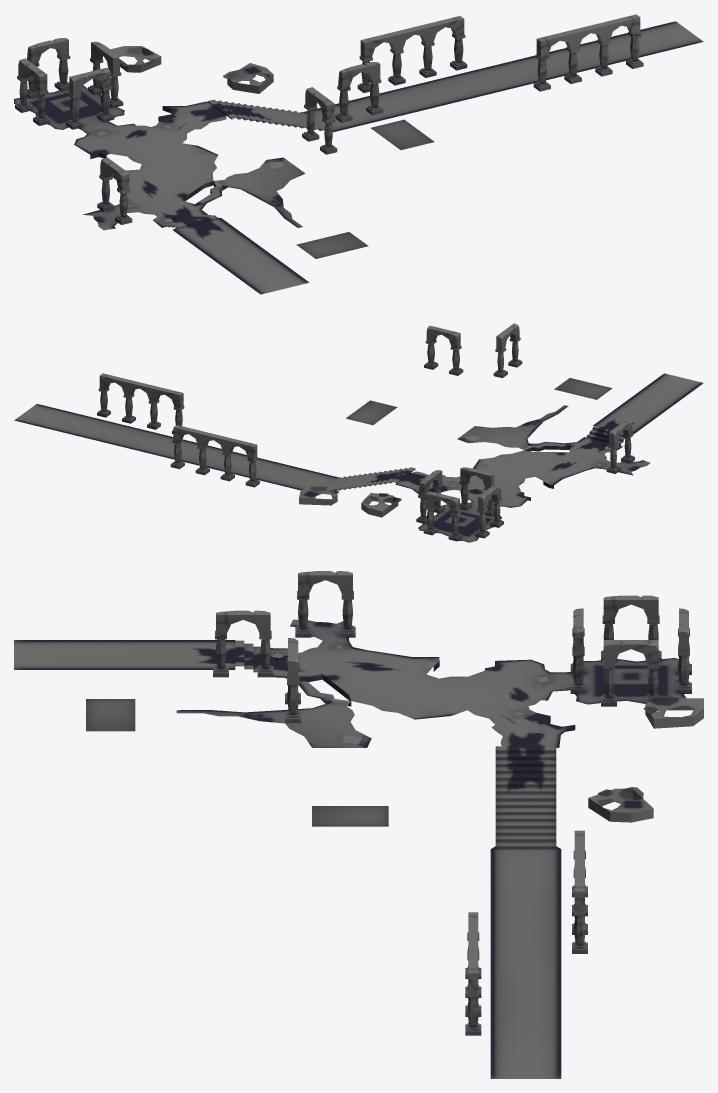
File: Ground_02.FBX
3 views of the same model, one above another, from view 1: azimuth 30°, elevation 25°; view 2: azimuth 150°, elevation 25°; view 3: azimuth 270°, elevation 25° (orthographic). The views are drawn at different scales.
Visible parts, largest first — view 1: Ground_02; view 2: Ground_02; view 3: Ground_02.
Part boxes in pixels (x1,y1,x2,y2): Ground_02: (14, 14, 703, 294); Ground_02: (14, 323, 703, 542); Ground_02: (14, 571, 703, 1078).
Bounding box in the file's own units: 64.06 × 12.26 × 44.97.
